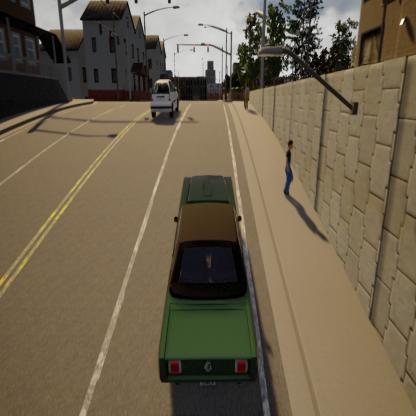Cars: (150, 150, 268, 416), (135, 57, 191, 139)
Pedestrian: (273, 116, 305, 205)
